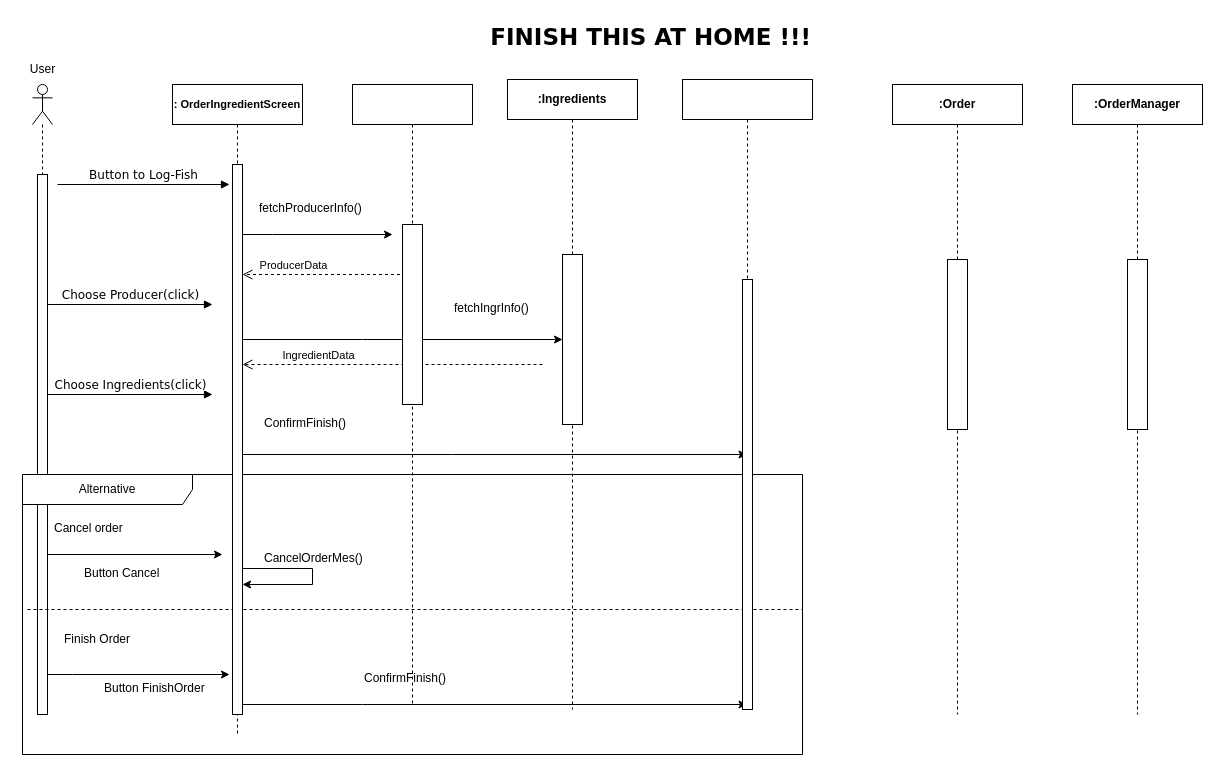
Some shapes in this 1220 by 772 pixel diagram are drawn without their labels. The shapes that lost their labels are listed below. From the top down, each one's box as (x1, y1, x2, y2) in pixels, then its label:
(352, 84, 472, 704): :Producer
(682, 78, 812, 710): : ConfirmationScreen
